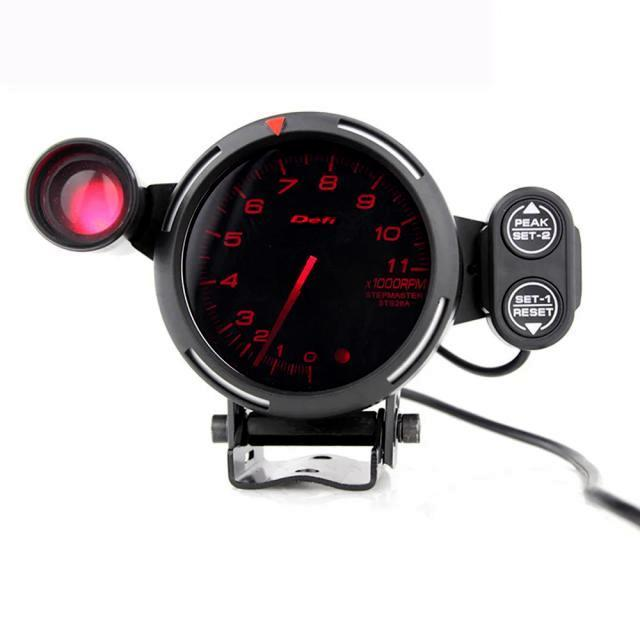Needle_Tip: (242, 343, 272, 376)
Needle_base: (271, 239, 348, 282)
max_value: (369, 250, 426, 284)
min_value: (295, 340, 326, 375)
